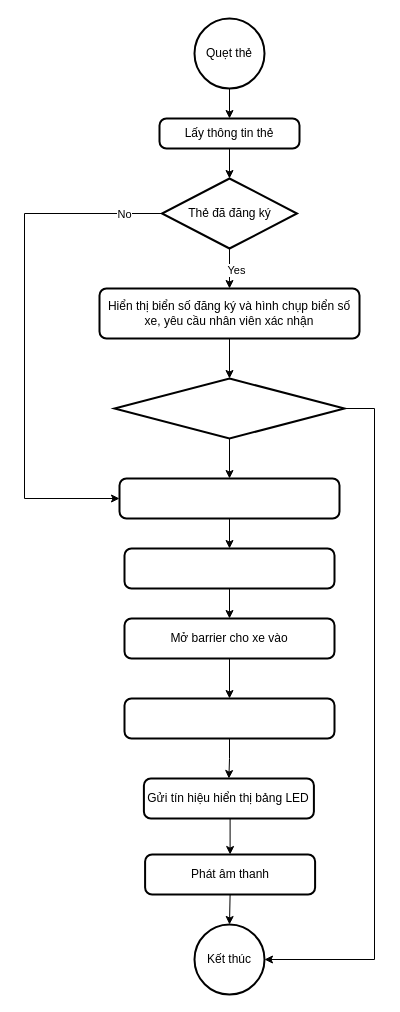
This 400x1012 diagram has some shape labels left out. Here are the shapes that lost their labels. From the top down, the centre of each, then its label:
At (229,408): "Nhân viên cho phép xe vào".
At (229,498): "Lưu ảnh biển số xe, ngày giờ vào".
At (229,568): "Cập nhật trạng thái thẻ".
At (229,718): "Cập nhật trạng thái bãi xe".
